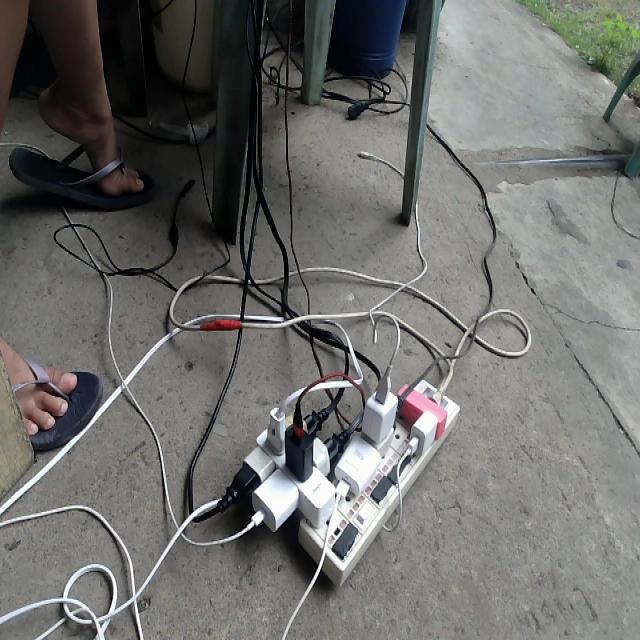-: (209, 352, 473, 603)
